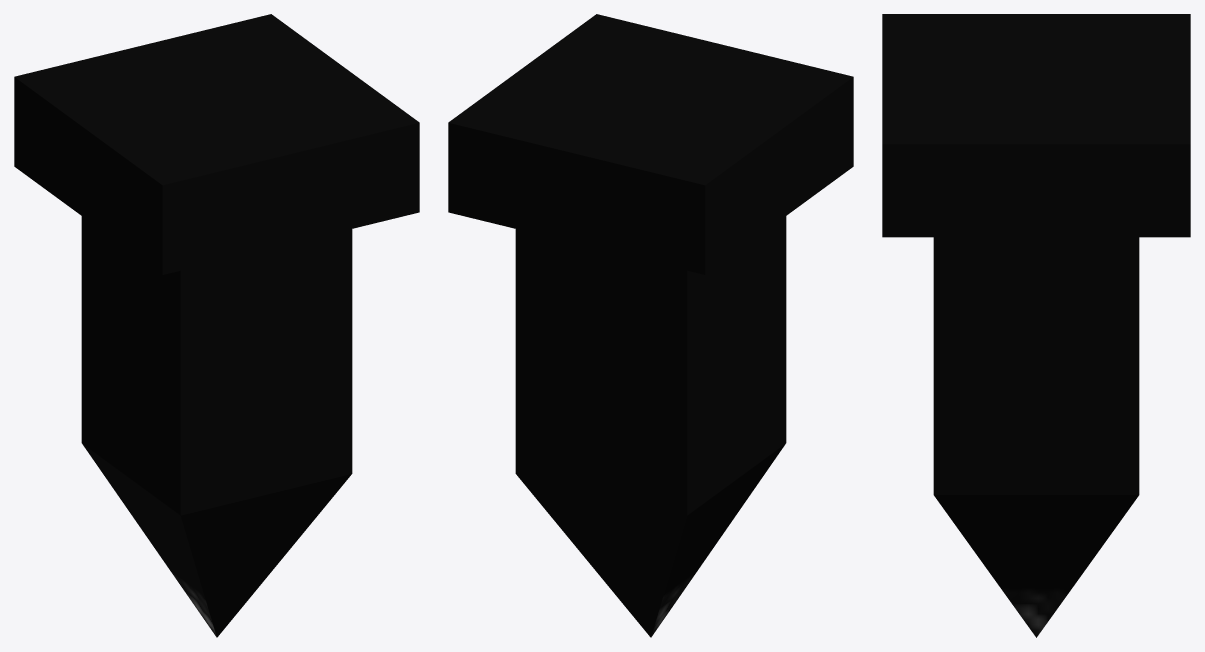
File: manaweaving_projector_pedestal.obj
3 renders of one model, left to right at view 1: azimuth 30°, elevation 25°; view 2: azimuth 150°, elevation 25°; view 3: azimuth 270°, elevation 25°, orthographic. The views are drawn at different scales.
Visible parts, largest first — view 1: SHAPE_PEDESTAL_Cube.010; view 2: SHAPE_PEDESTAL_Cube.010; view 3: SHAPE_PEDESTAL_Cube.010.
Boxes of the visible parts, left/top/right/bottom form: SHAPE_PEDESTAL_Cube.010: left=14, top=14, right=419, bottom=637; SHAPE_PEDESTAL_Cube.010: left=448, top=14, right=853, bottom=637; SHAPE_PEDESTAL_Cube.010: left=882, top=14, right=1190, bottom=637.
Size of the model in its own units: 0.1875 by 0.375 by 0.1875.
